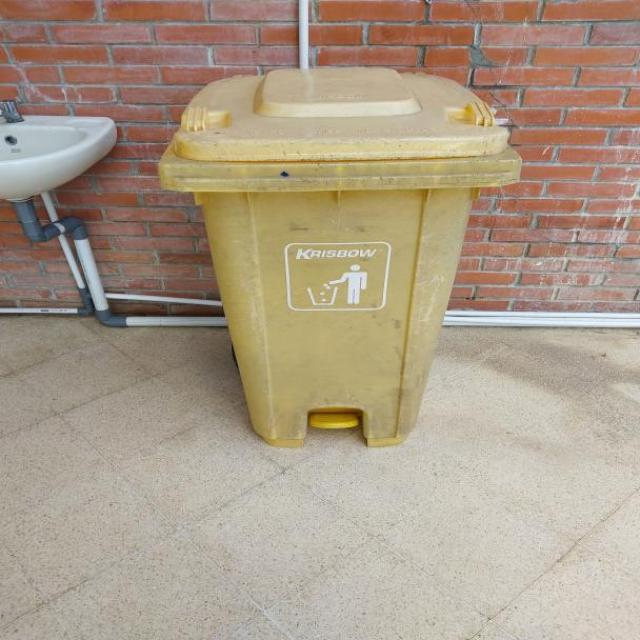dustbin ahead at: (166, 60, 527, 448)
